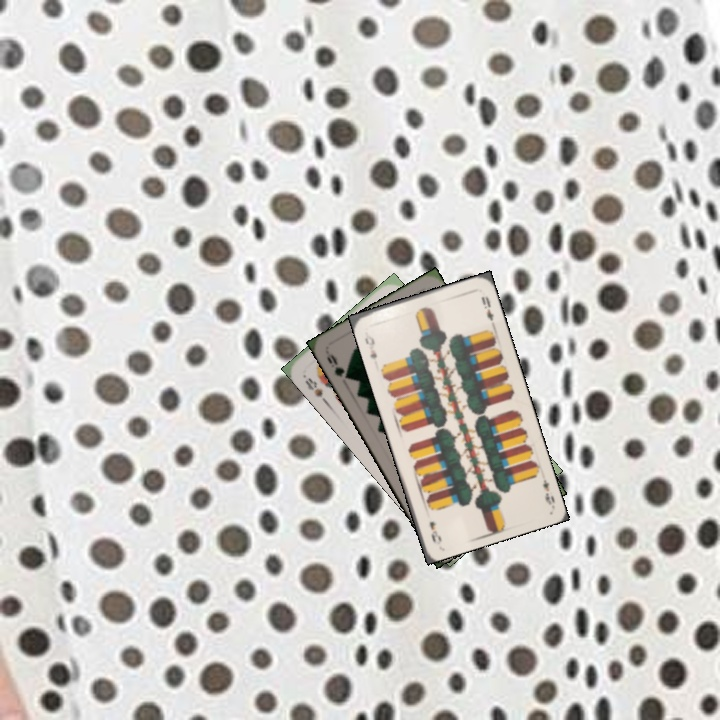E9: (360, 327, 380, 362), (538, 475, 557, 508)
G9: (322, 348, 353, 382)
S8: (301, 374, 328, 404)
